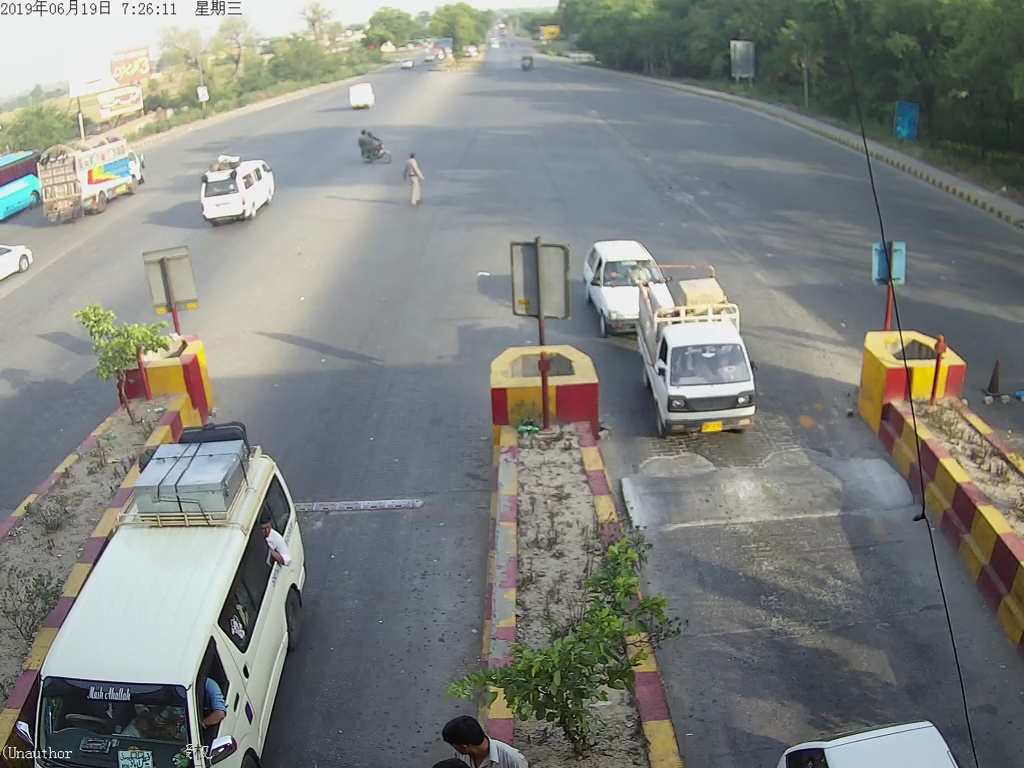Cat-1: (634, 264, 771, 452)
